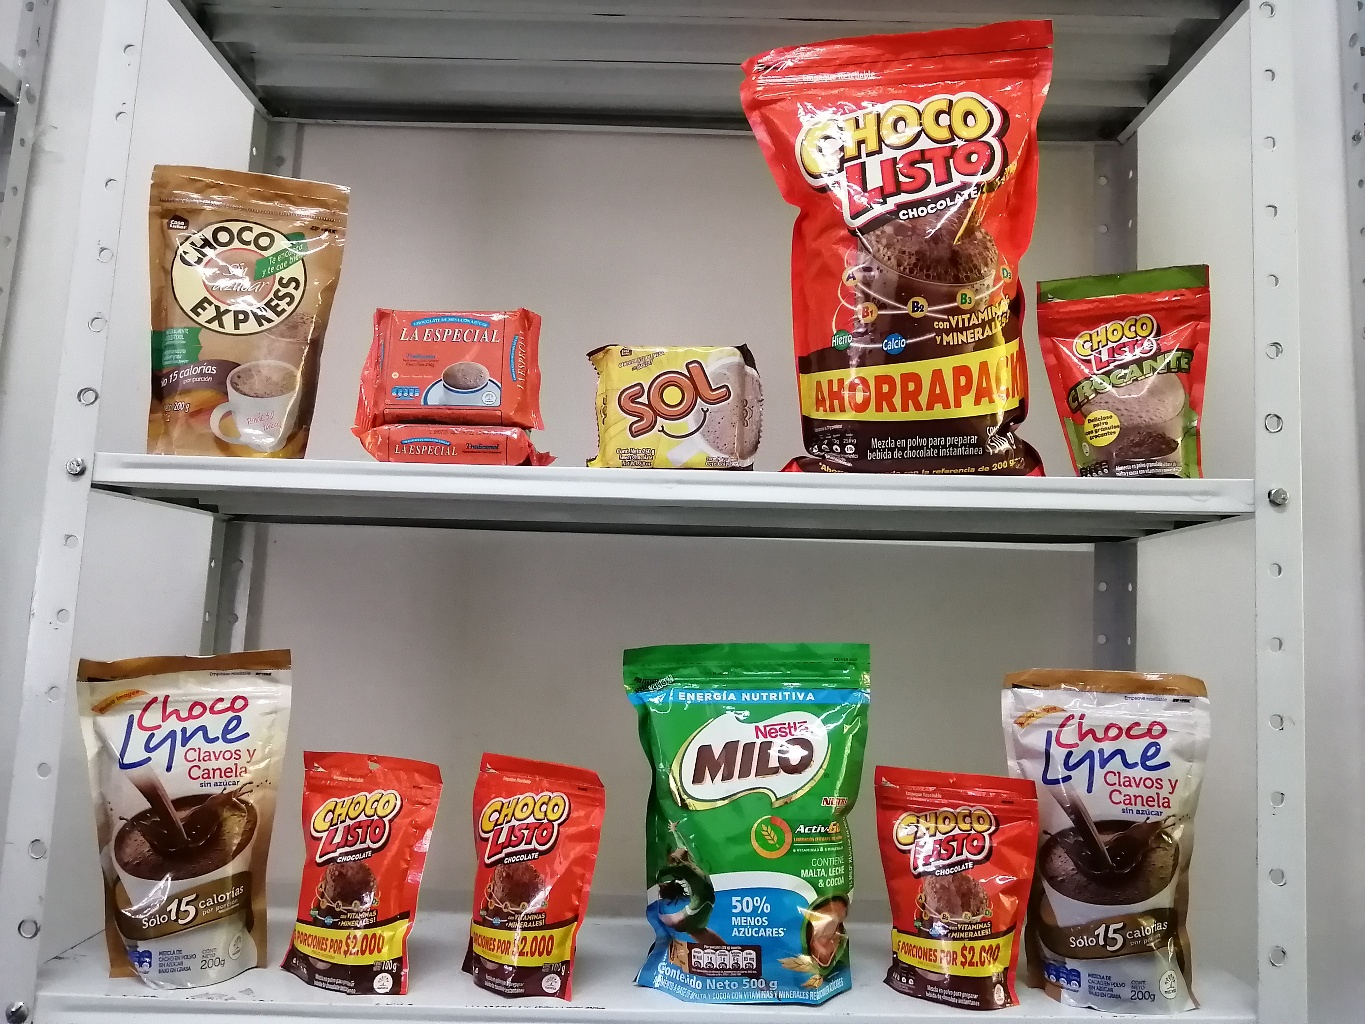COL0170102DYP10000: (1033, 257, 1212, 479)
COL0170103DYP1,500: (738, 19, 1060, 477)
COL0170103DYP10000: (871, 763, 1040, 1009)
COL0170205DYP50000: (621, 638, 864, 1008)
